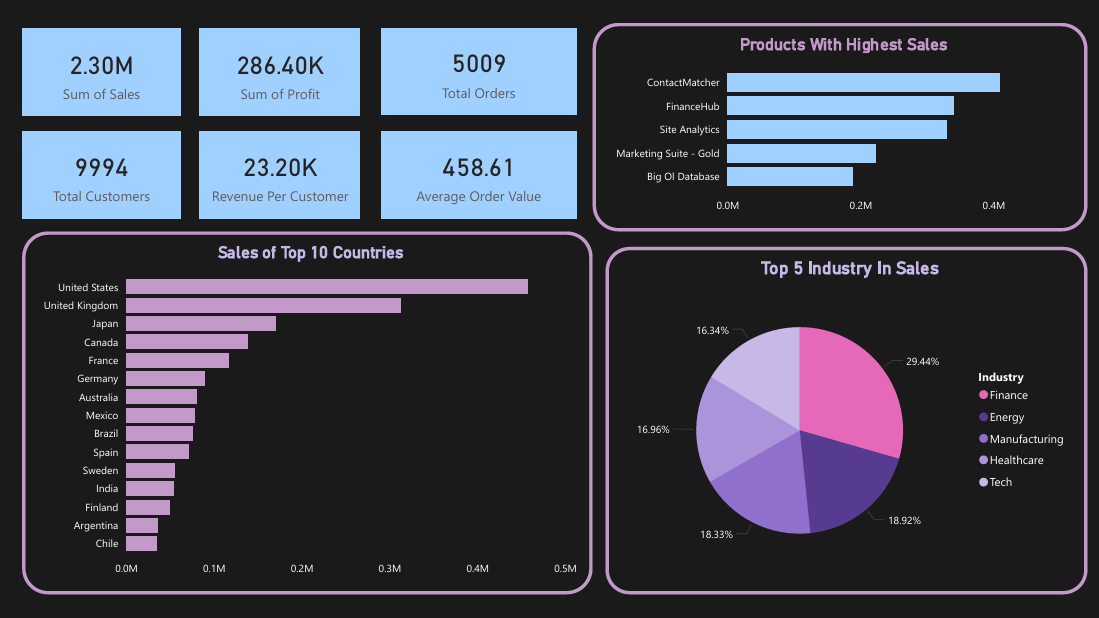

The page's visual inventory and layout, read from the dashboard file:
{"tool":"powerbi","page":{"name":"Executive/ Overview Dashboard","canvas":[1280,720],"ordinal":0},"visuals":[{"type":"card","fields":{"Values":["Sum(SaaS-Sales.Sales)"]},"box":[25.5,32.8,184.5,101.9],"z":0},{"type":"card","fields":{"Values":["Sum(SaaS-Sales.Profit)"]},"box":[231.8,32.8,186.9,101.9],"z":1000},{"type":"card","fields":{"Values":["SaaS-Sales.Total Orders"]},"box":[442.9,31.6,226.9,101.9],"z":2000},{"type":"card","fields":{"Values":["SaaS-Sales.Average Order Value"]},"box":[442.9,151.7,226.9,101.9],"z":3000},{"type":"card","fields":{"Values":["CountNonNull(SaaS-Sales.Customer ID)"]},"box":[25.5,151.7,184.5,101.9],"z":4000},{"type":"barChart","title":"Sales of Top 10 Countries","fields":{"Category":["SaaS-Sales.Country"],"Y":["Sum(SaaS-Sales.Sales)"]},"box":[25.5,269.4,663.8,422.3],"z":5000},{"type":"card","fields":{"Values":["SaaS-Sales.Revenue Per Customer"]},"box":[231.8,151.7,186.9,101.9],"z":6000},{"type":"pieChart","title":"Top 5 Industry In Sales","fields":{"Category":["SaaS-Sales.Industry"],"Y":["Sum(SaaS-Sales.Sales)"]},"box":[703.8,287,560.9,405.1],"z":7000},{"type":"barChart","title":"Products With Highest Sales","fields":{"Category":["SaaS-Sales.Product"],"Y":["Sum(SaaS-Sales.Sales)"]},"box":[689.5,26,575.2,242.8],"z":8000}]}

Visuals, with their boxes in screenshot pixels (x1, y1, x2, y2), scaled from the page's 1280x720 canvas onto the 1099x618 screenshot:
card - Sum(SaaS-Sales.Sales): 22,28,180,116
card - Sum(SaaS-Sales.Profit): 199,28,359,116
card - SaaS-Sales.Total Orders: 380,27,575,115
card - SaaS-Sales.Average Order Value: 380,130,575,218
card - CountNonNull(SaaS-Sales.Customer ID): 22,130,180,218
"Sales of Top 10 Countries" barChart: 22,231,592,594
card - SaaS-Sales.Revenue Per Customer: 199,130,359,218
"Top 5 Industry In Sales" pieChart: 604,246,1086,594
"Products With Highest Sales" barChart: 592,22,1086,231
